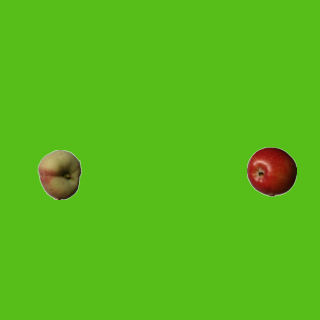Apple Braeburn: (246, 146, 296, 196)
Peach Flat: (34, 149, 84, 199)
